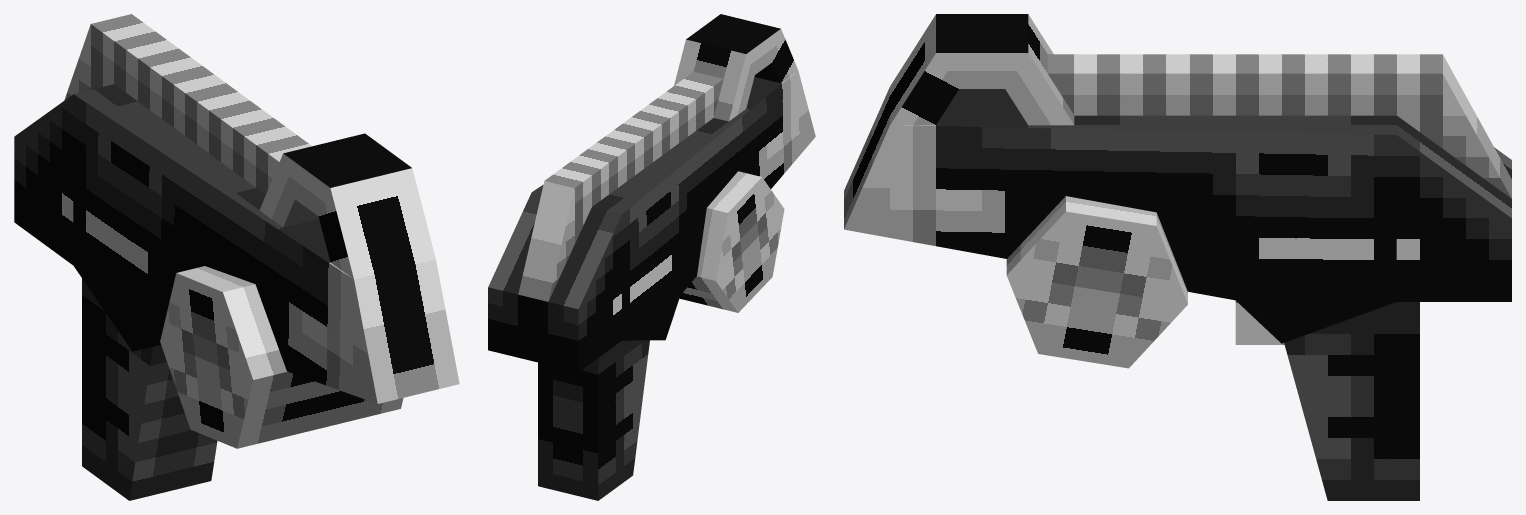
Rendered from LaserBlaster.fbx.
The picture shows the model from 3 angles, left to right: view 1: azimuth 30°, elevation 25°; view 2: azimuth 150°, elevation 25°; view 3: azimuth 270°, elevation 25°; orthographic projection. The views are drawn at different scales.
Visible parts, largest first — view 1: LaserBlaster; view 2: LaserBlaster; view 3: LaserBlaster.
Boxes of the visible parts, <box> form: LaserBlaster: <box>14,14,459,500</box>; LaserBlaster: <box>488,14,815,500</box>; LaserBlaster: <box>844,14,1511,500</box>.
Bounding box in the file's own units: 2 × 5.37 × 7.25.
